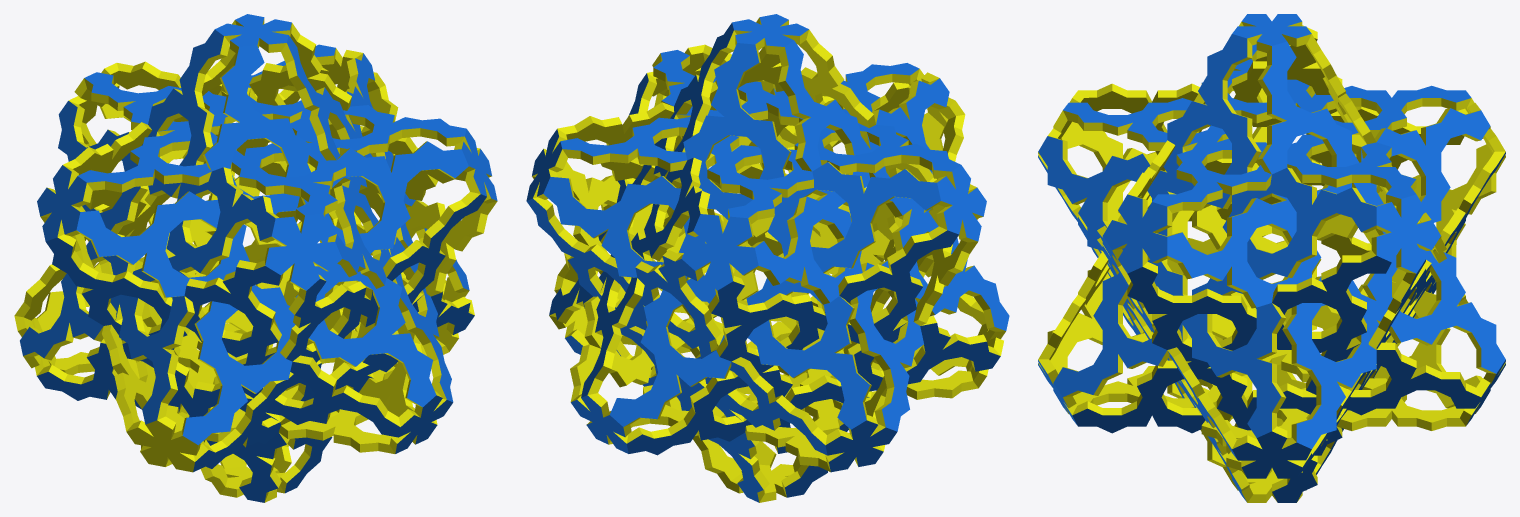
The model's file is RoelofsHoldenPolylinknotStellatedDodecahedron.glb.
3 renders of one model, left to right at view 1: azimuth 30°, elevation 25°; view 2: azimuth 150°, elevation 25°; view 3: azimuth 270°, elevation 25°, orthographic.
Visible parts, largest first — view 1: ROELOFS_HOLDEN_ESCHER_POLYLINKNOT_STELLATED_DODECAHEDRON_1Au; view 2: ROELOFS_HOLDEN_ESCHER_POLYLINKNOT_STELLATED_DODECAHEDRON_1Au; view 3: ROELOFS_HOLDEN_ESCHER_POLYLINKNOT_STELLATED_DODECAHEDRON_1Au.
Boxes of the visible parts, box(x1,y1,x2,y2) form: ROELOFS_HOLDEN_ESCHER_POLYLINKNOT_STELLATED_DODECAHEDRON_1Au: box(14, 14, 497, 502); ROELOFS_HOLDEN_ESCHER_POLYLINKNOT_STELLATED_DODECAHEDRON_1Au: box(526, 14, 1009, 502); ROELOFS_HOLDEN_ESCHER_POLYLINKNOT_STELLATED_DODECAHEDRON_1Au: box(1038, 14, 1505, 502).
Bounding box in the file's own units: 96.84 × 100 × 92.1.
